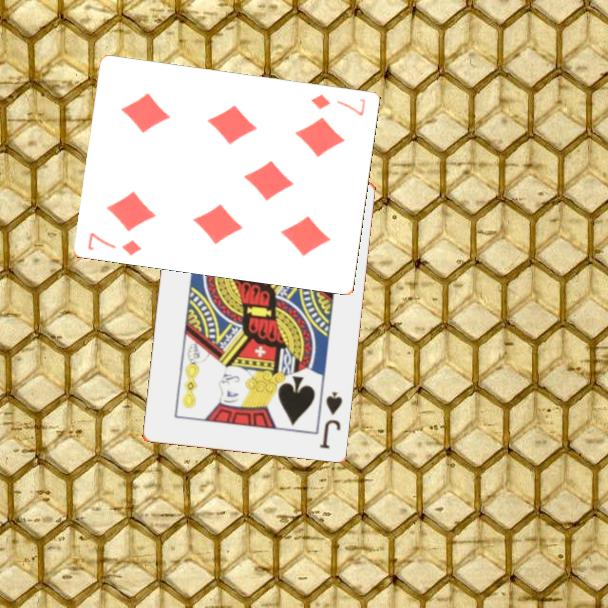d07: (308, 90, 369, 119), (84, 229, 145, 258)
s11: (316, 388, 345, 451)
